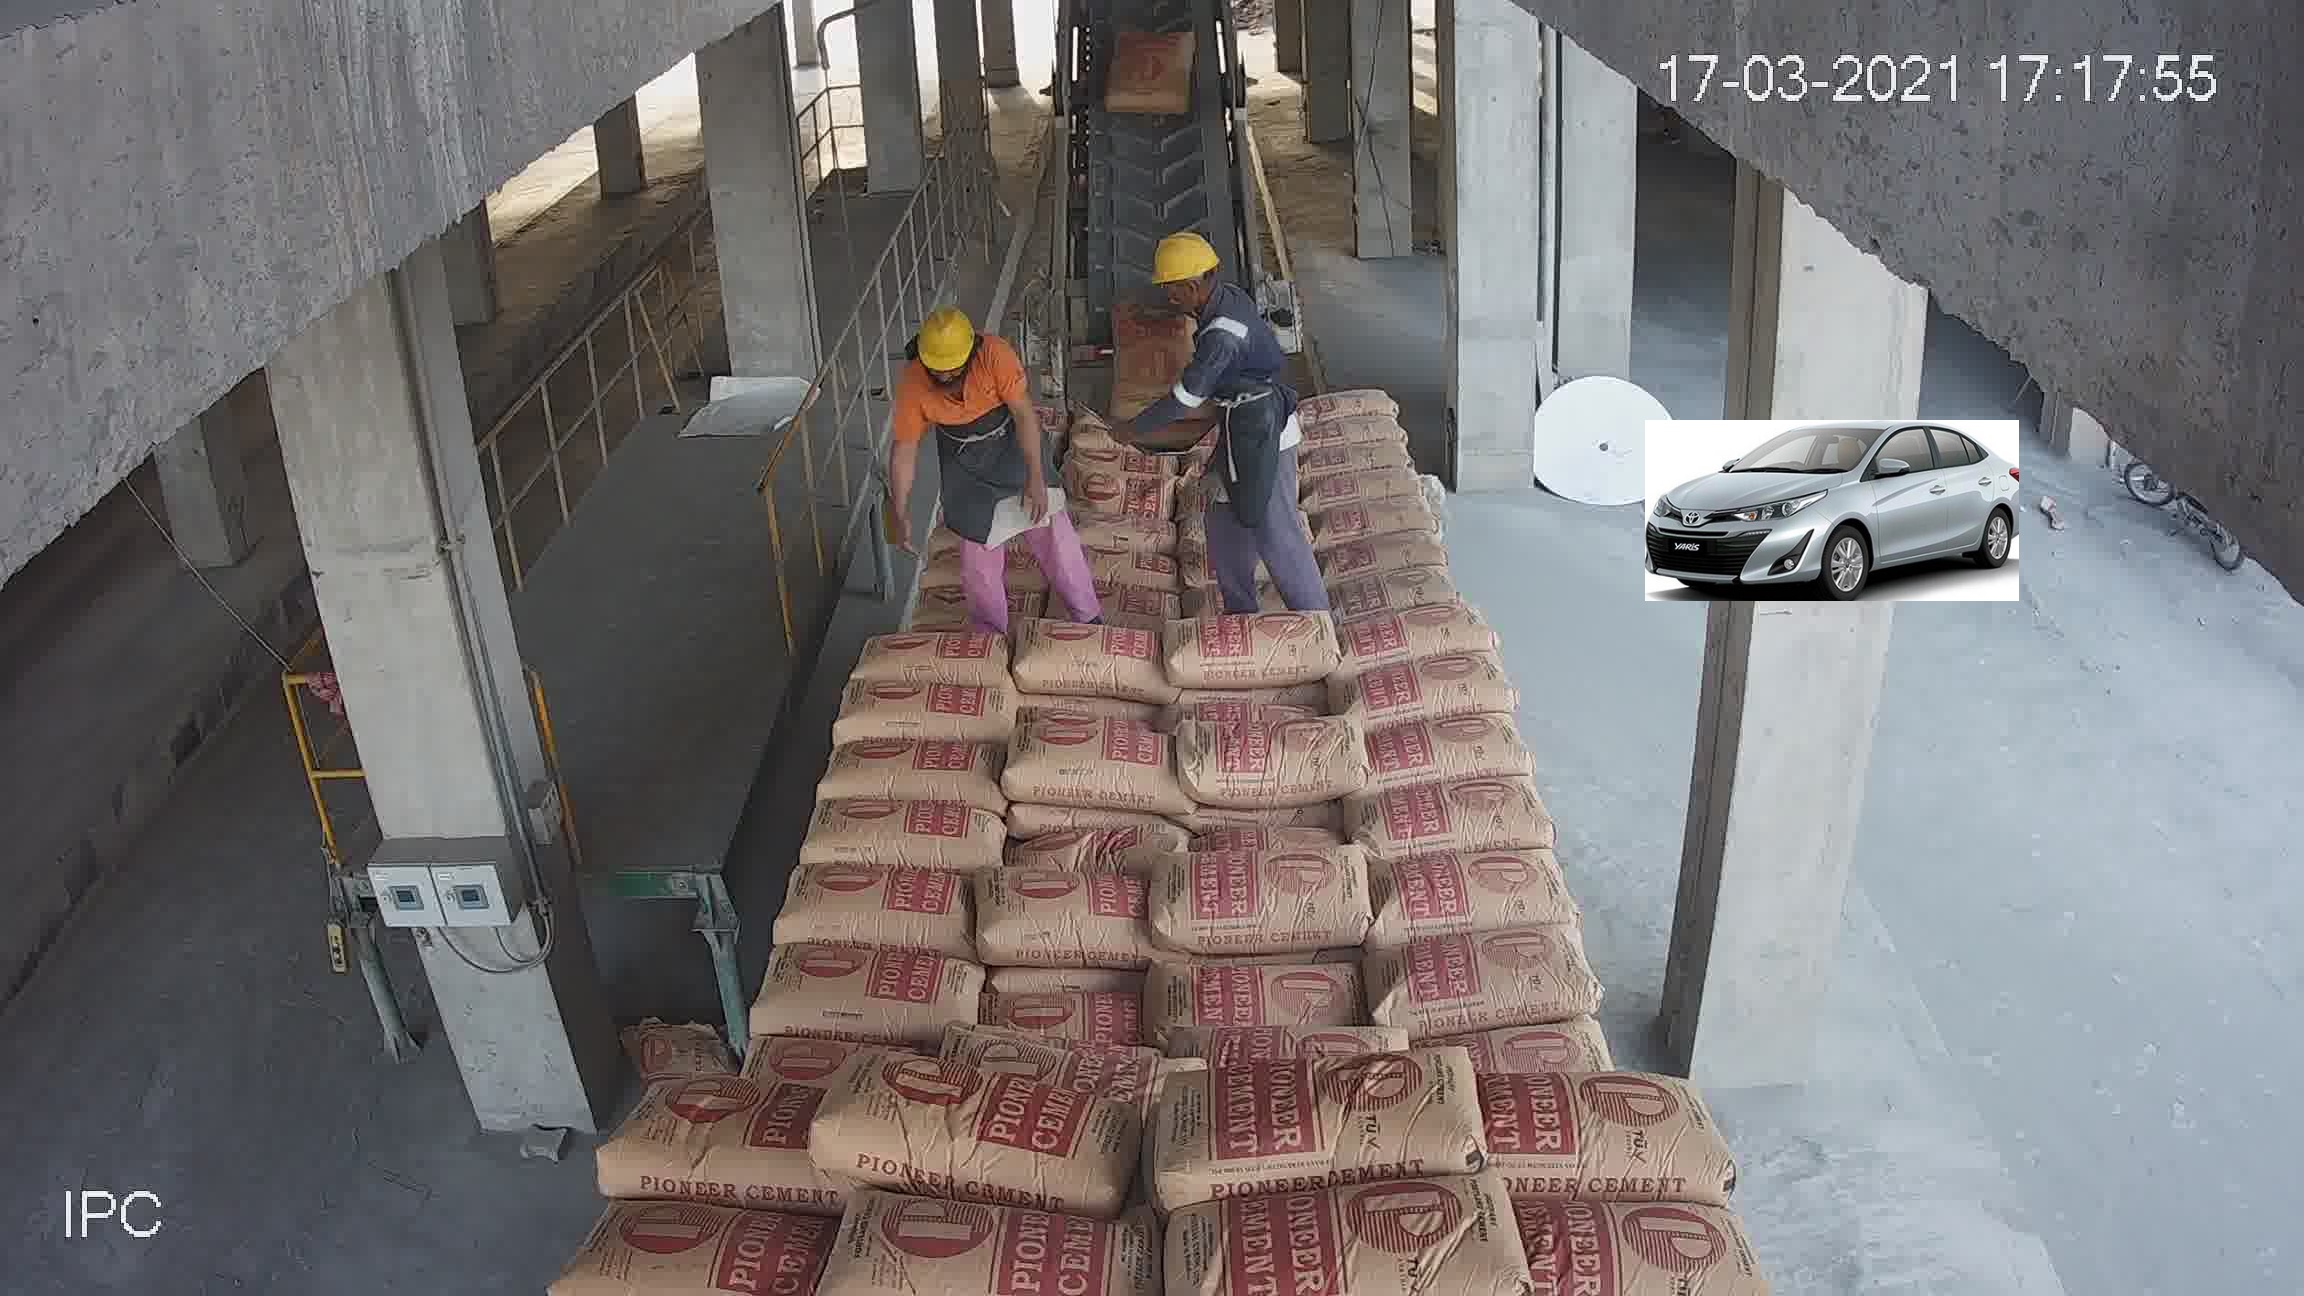bag: (1105, 30, 1193, 123)
bag_h: (804, 1051, 1114, 1220), (1154, 1055, 1492, 1201), (1163, 1184, 1522, 1294), (817, 1185, 1180, 1291), (589, 1079, 828, 1215), (1472, 1078, 1715, 1199), (1503, 1184, 1761, 1296), (552, 1199, 848, 1293), (1372, 919, 1601, 1032), (745, 943, 995, 1046), (964, 869, 1166, 968), (1345, 769, 1556, 864), (1160, 862, 1378, 953), (1367, 848, 1575, 943), (779, 855, 973, 953), (1177, 711, 1362, 810), (1150, 961, 1367, 1044), (999, 715, 1188, 805), (801, 798, 1014, 872), (1351, 711, 1533, 793), (1002, 820, 1195, 897), (1173, 604, 1329, 696), (942, 1029, 1168, 1092), (817, 734, 1006, 805), (1324, 593, 1505, 668), (1334, 654, 1519, 725), (1432, 1025, 1620, 1089), (991, 976, 1154, 1049), (1021, 620, 1173, 696), (836, 682, 1008, 748), (853, 623, 1006, 687), (1293, 486, 1451, 546), (1324, 559, 1473, 609), (1060, 497, 1180, 552), (1035, 541, 1184, 585), (1063, 582, 1193, 633), (1302, 459, 1431, 510), (1317, 530, 1454, 576), (1063, 459, 1171, 517), (1298, 434, 1407, 478), (1291, 381, 1407, 421), (1290, 411, 1404, 445)
bag_v: (1111, 312, 1196, 421)
belt: (1041, 30, 1268, 410)
